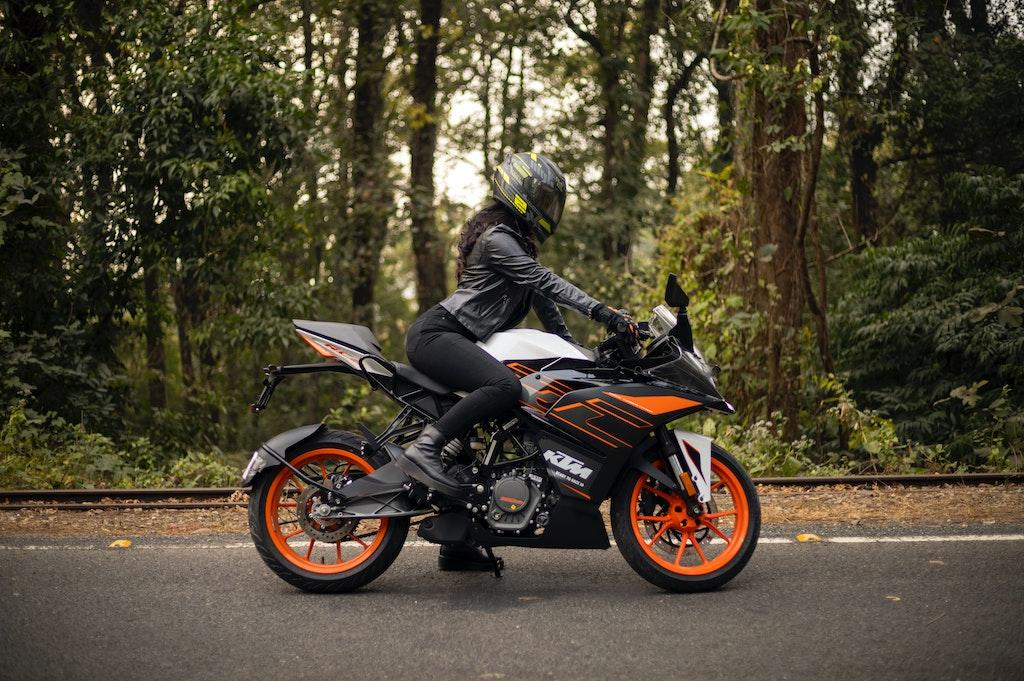helmet: (491, 151, 567, 245)
